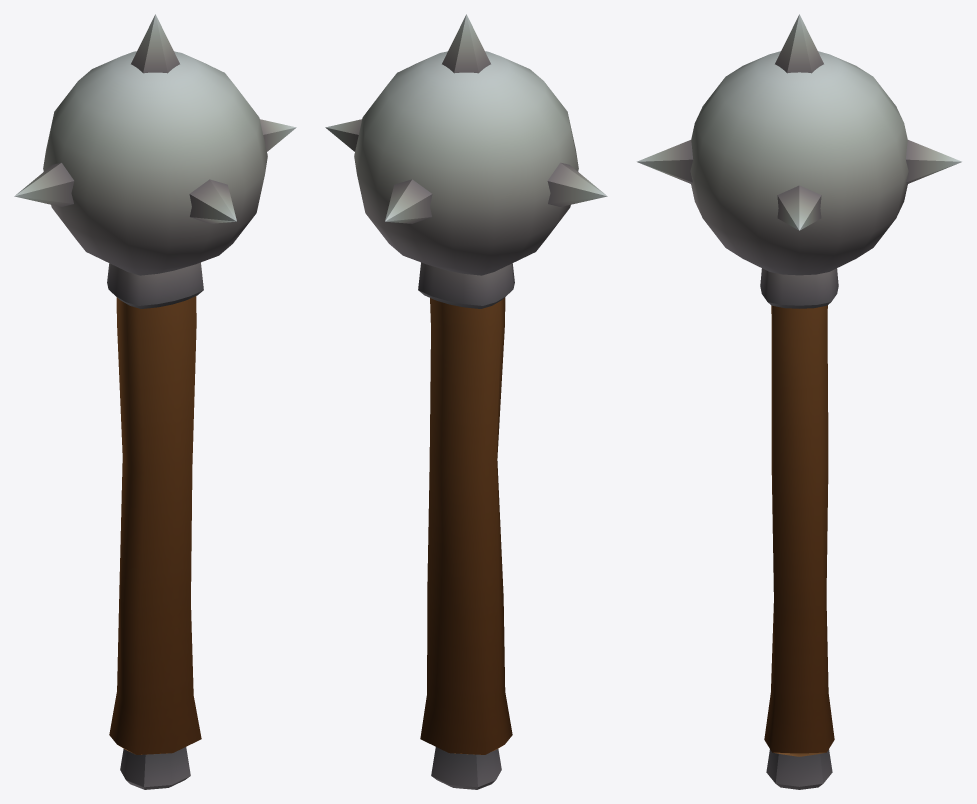
Rendered from Mace_03.obj.
3 renders of one model, left to right at view 1: azimuth 30°, elevation 25°; view 2: azimuth 150°, elevation 25°; view 3: azimuth 270°, elevation 25°, orthographic.
Parts seen in each view (by area): view 1: Mace_03; view 2: Mace_03; view 3: Mace_03.
Part boxes in pixels (x1,y1,x2,y2): Mace_03: (14,14,296,789); Mace_03: (325,14,607,789); Mace_03: (636,14,962,789).
Bounding box in the file's own units: 0.4318 × 1.12 × 0.4318.
